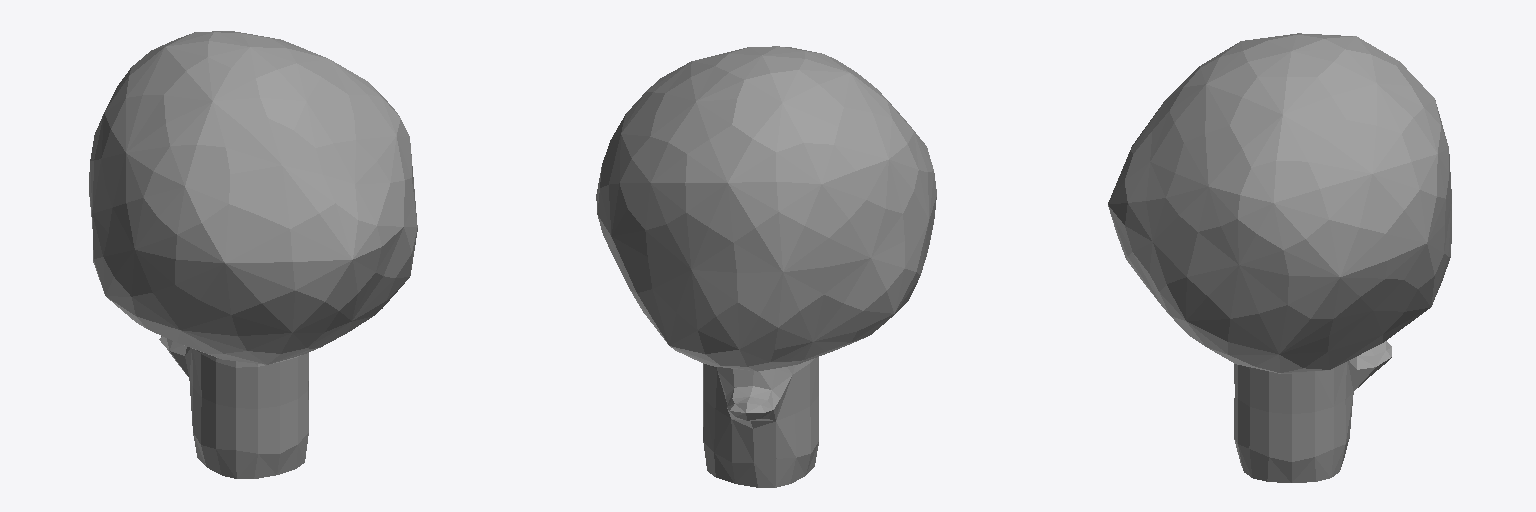
File: TREE.obj
The picture shows the model from 3 angles: view 1: azimuth 30°, elevation 25°; view 2: azimuth 150°, elevation 25°; view 3: azimuth 270°, elevation 25°; orthographic projection.
Visible parts, largest first — view 1: Cube_Cube.005; view 2: Cube_Cube.005; view 3: Cube_Cube.005.
Part boxes in pixels (left/top/right/bottom): Cube_Cube.005: left=89, top=31, right=417, bottom=478; Cube_Cube.005: left=596, top=46, right=936, bottom=487; Cube_Cube.005: left=1108, top=33, right=1451, bottom=482.
Bounding box in the file's own units: 1.23 × 1.66 × 1.26.